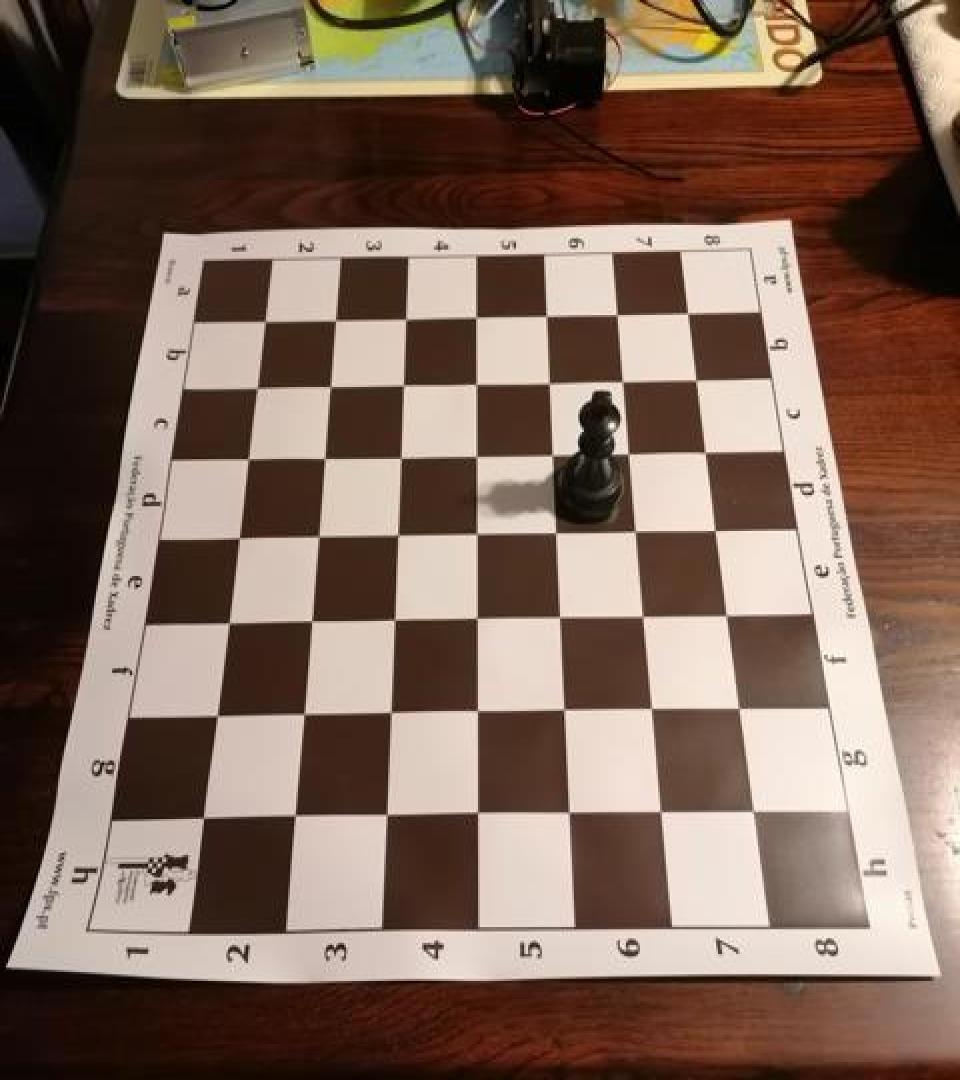xcorner: (724, 689, 756, 726), (635, 689, 667, 726), (180, 797, 212, 834), (675, 292, 707, 328), (604, 294, 636, 330), (532, 296, 564, 332), (461, 297, 493, 333), (390, 298, 422, 334), (319, 299, 351, 335), (248, 300, 280, 336), (684, 359, 716, 395), (609, 360, 641, 396), (535, 361, 567, 397), (460, 364, 492, 400), (387, 364, 419, 400), (313, 366, 345, 402), (239, 367, 271, 403), (692, 431, 724, 467), (615, 432, 647, 468), (537, 433, 569, 469), (460, 434, 492, 470), (383, 436, 415, 472), (306, 438, 338, 474), (230, 439, 262, 475), (702, 510, 734, 546), (621, 511, 653, 547), (540, 512, 572, 548), (459, 513, 491, 549), (379, 514, 411, 550), (299, 515, 331, 551), (219, 516, 251, 552), (713, 595, 745, 631), (628, 596, 660, 632), (543, 598, 575, 634), (459, 598, 491, 634), (374, 600, 406, 636), (291, 601, 323, 637), (207, 601, 239, 637), (546, 691, 578, 727), (458, 692, 490, 728), (370, 693, 402, 729), (282, 694, 314, 730), (194, 694, 226, 730), (737, 793, 769, 829), (643, 793, 675, 829), (550, 794, 582, 830), (457, 796, 489, 832), (364, 796, 396, 832), (272, 796, 304, 832)
